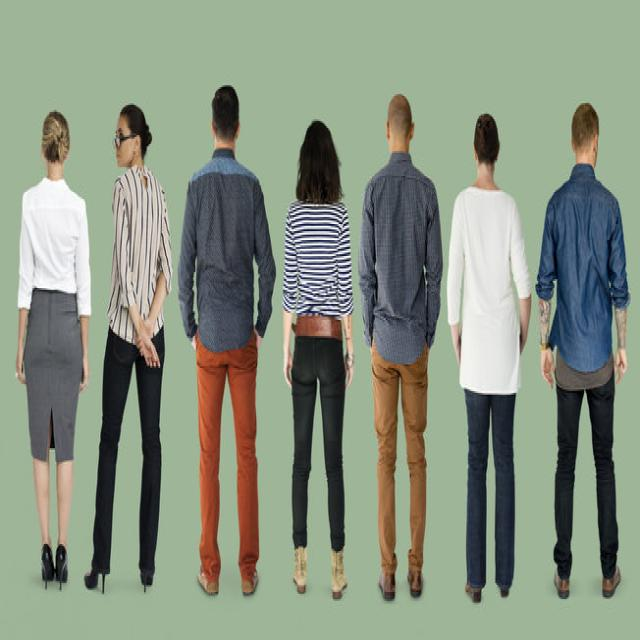adult: (178, 81, 276, 595), (534, 103, 629, 601), (83, 103, 175, 599), (445, 112, 531, 602), (361, 94, 443, 600), (19, 110, 92, 588), (282, 120, 354, 600)
